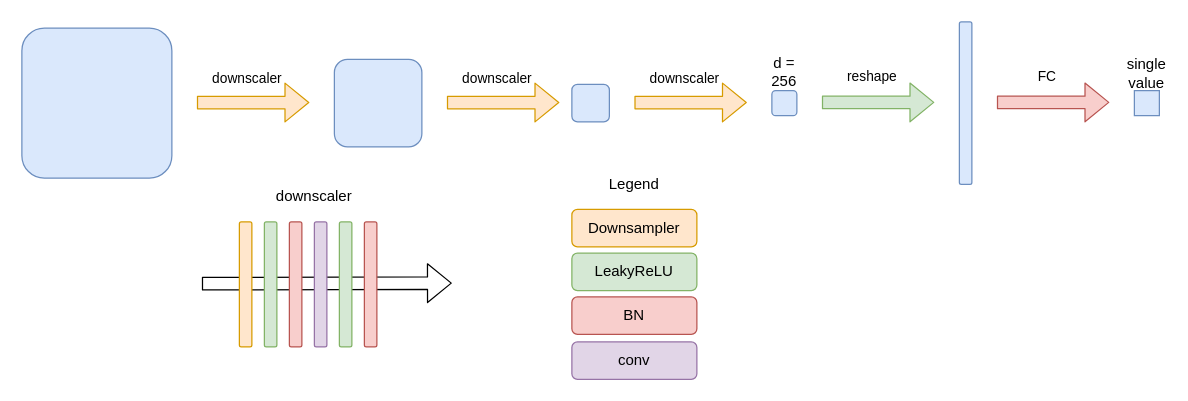
The diagram is 1188 pixels wide and 401 high, and some of its shapes have lost their labels. Each missing label, with the centre of its shape:
"d = 128" belongs at (x=590, y=102).
"d = 64" belongs at (x=377, y=102).
"input depth" belongs at (x=96, y=102).
